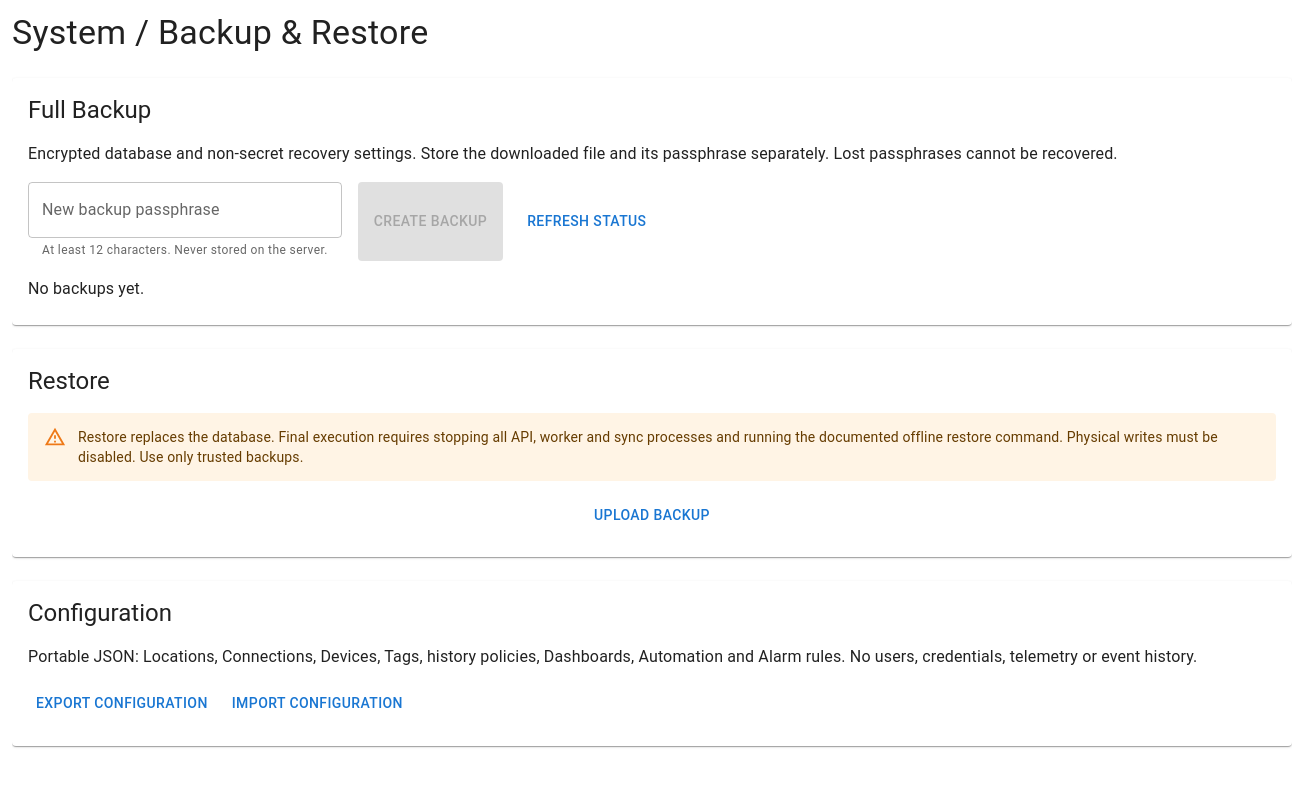
it: Backup & Restore › creates an encrypted backup and clears the passphrase
Check: the text "No backups yet." is shown, box [28,279,144,298]
Step 1. Type "test-backup-password" into the password field labelled "New backup passphrase" → (185, 210), box [28,182,342,238]
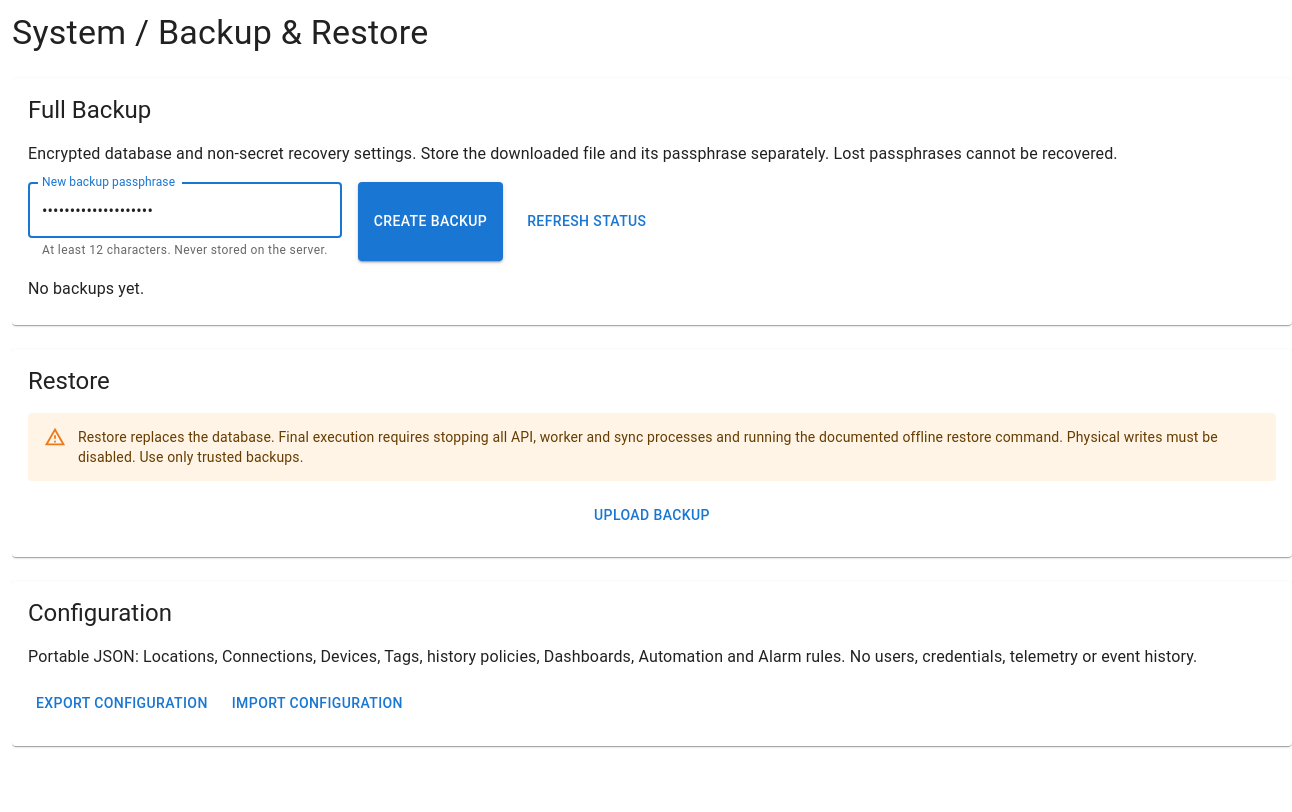
Step 2. Click the button "Create backup" → (430, 221), box [358,182,503,261]
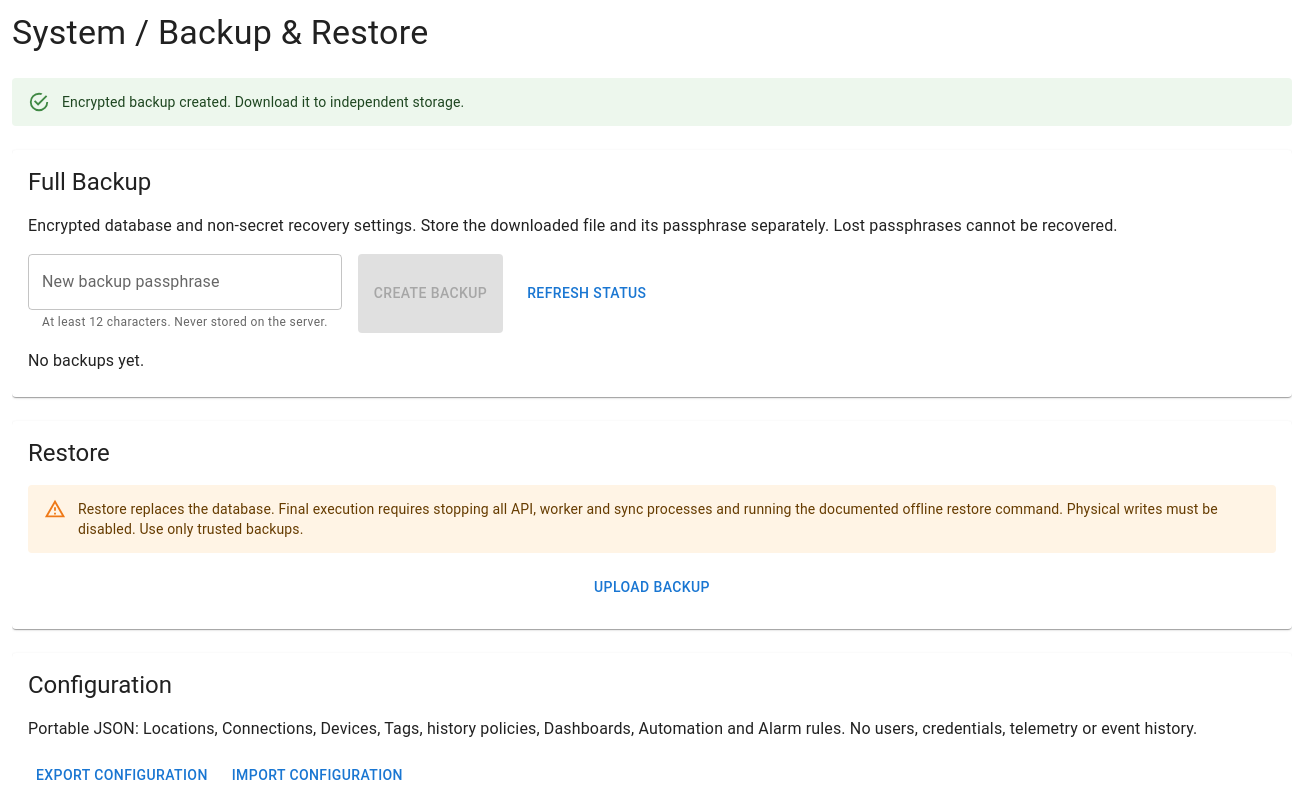
Check: the text "Encrypted backup created" is shown, box [62,94,464,110]
Check: the password field labelled "New backup passphrase" is empty, box [28,254,342,310]
